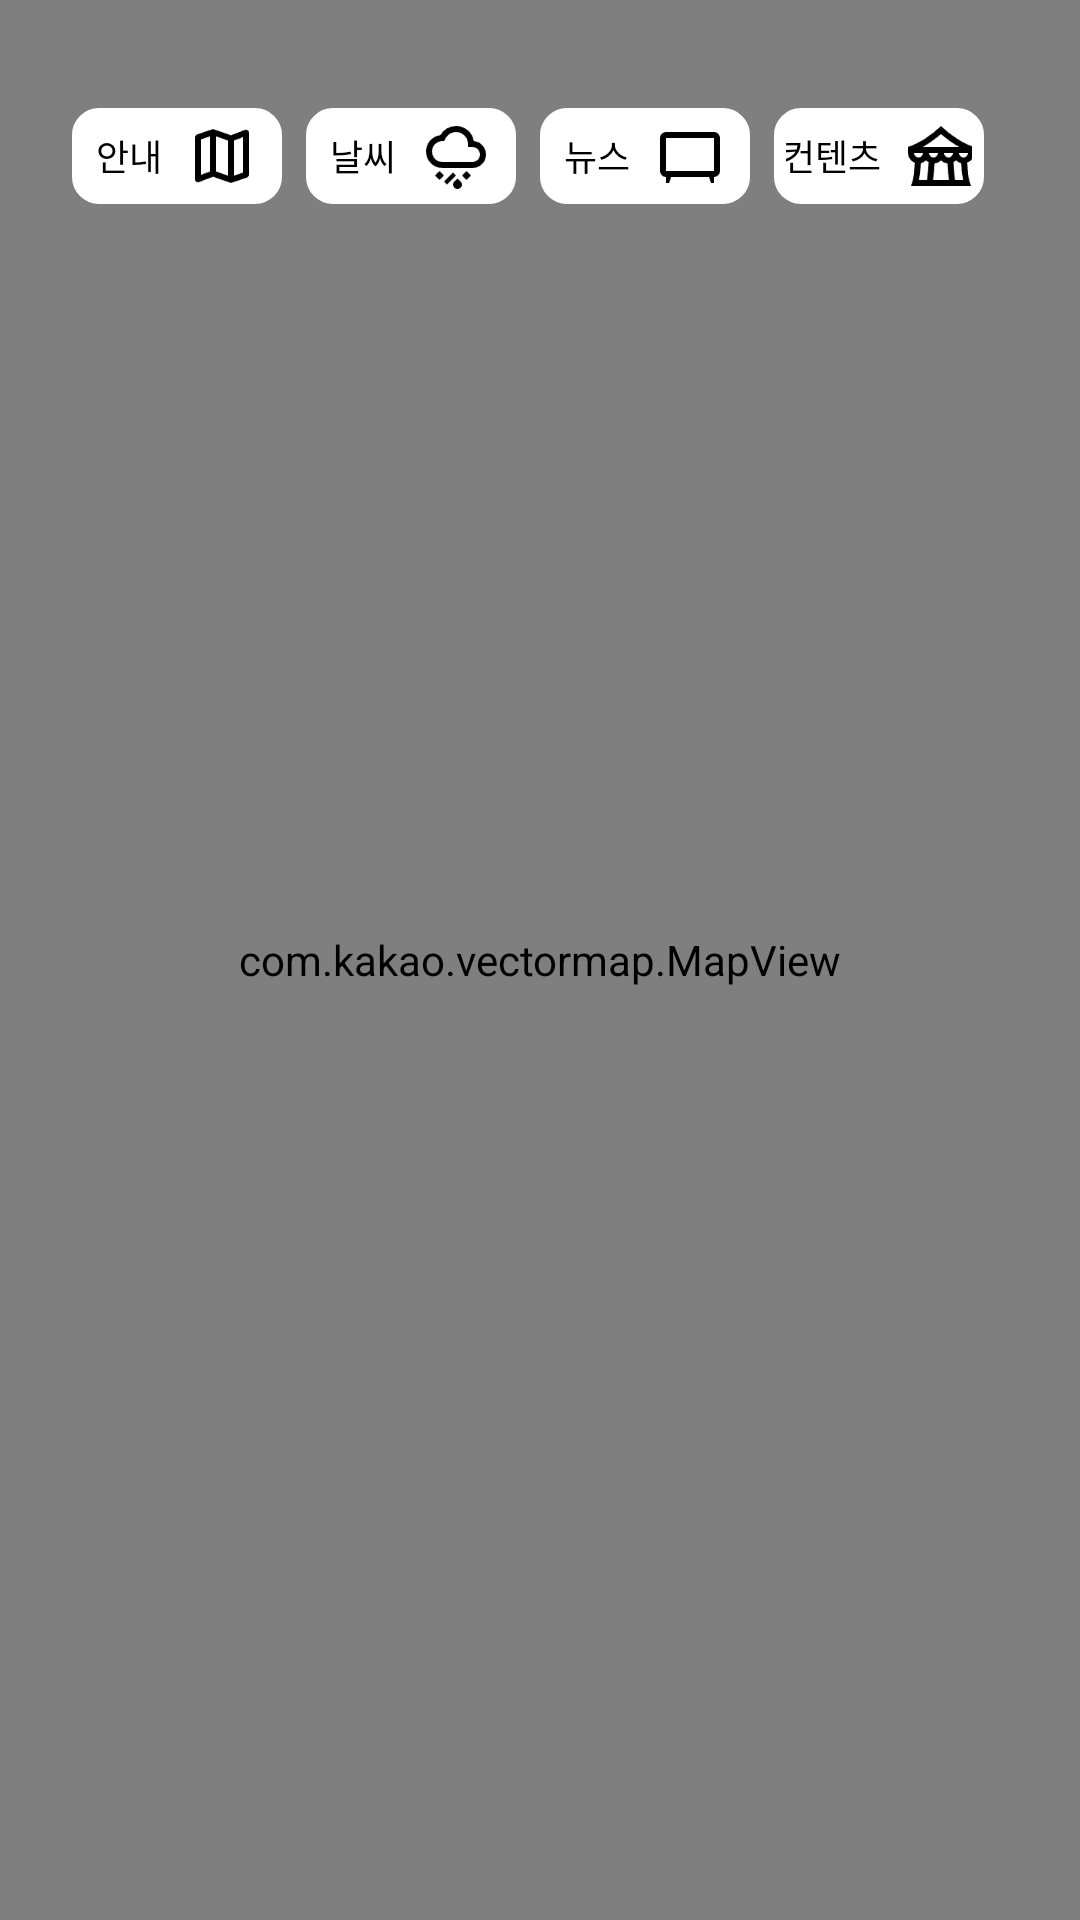

Named icons in this screenshot (1080 x 1920) and their centers, [x,y]:
guide: [222,156]
